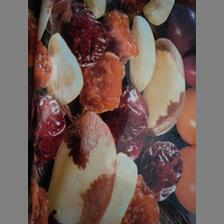Nuss: (27, 0, 195, 224)
